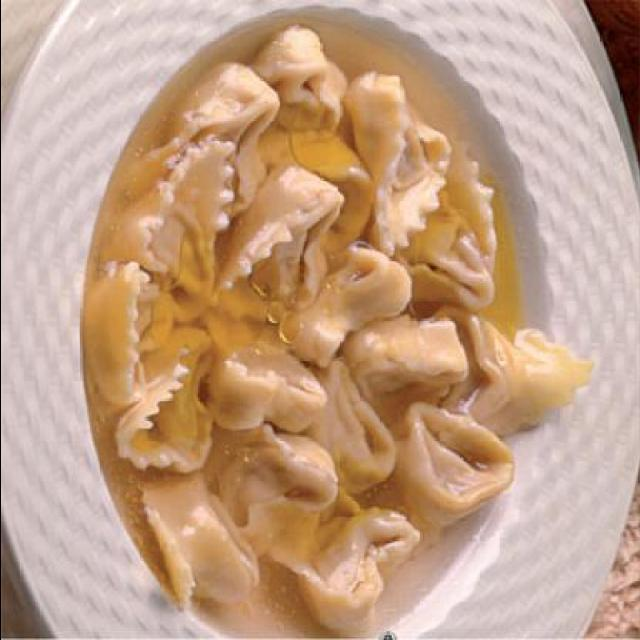Tortellini in broth: (111, 100, 529, 632)
